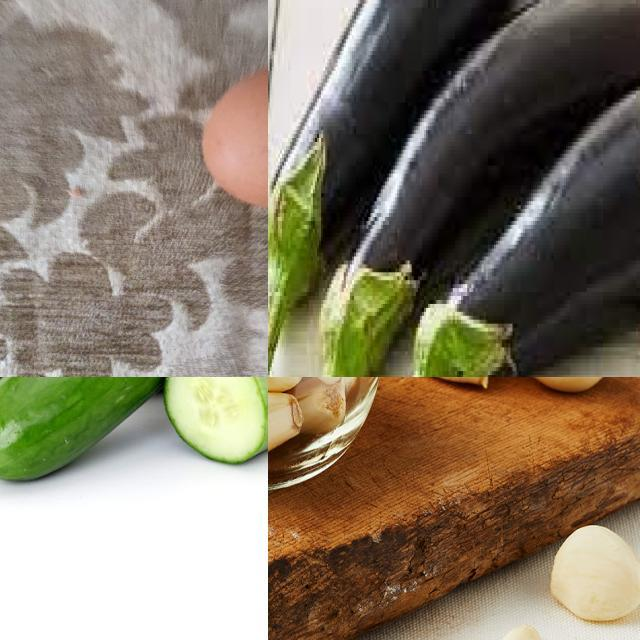cucumber: (1, 378, 269, 486), (160, 378, 269, 464)
egg: (202, 49, 269, 214)
eggplant: (326, 1, 640, 348), (269, 1, 540, 269), (418, 79, 640, 378)
garlic: (547, 521, 640, 626), (486, 625, 546, 640)
